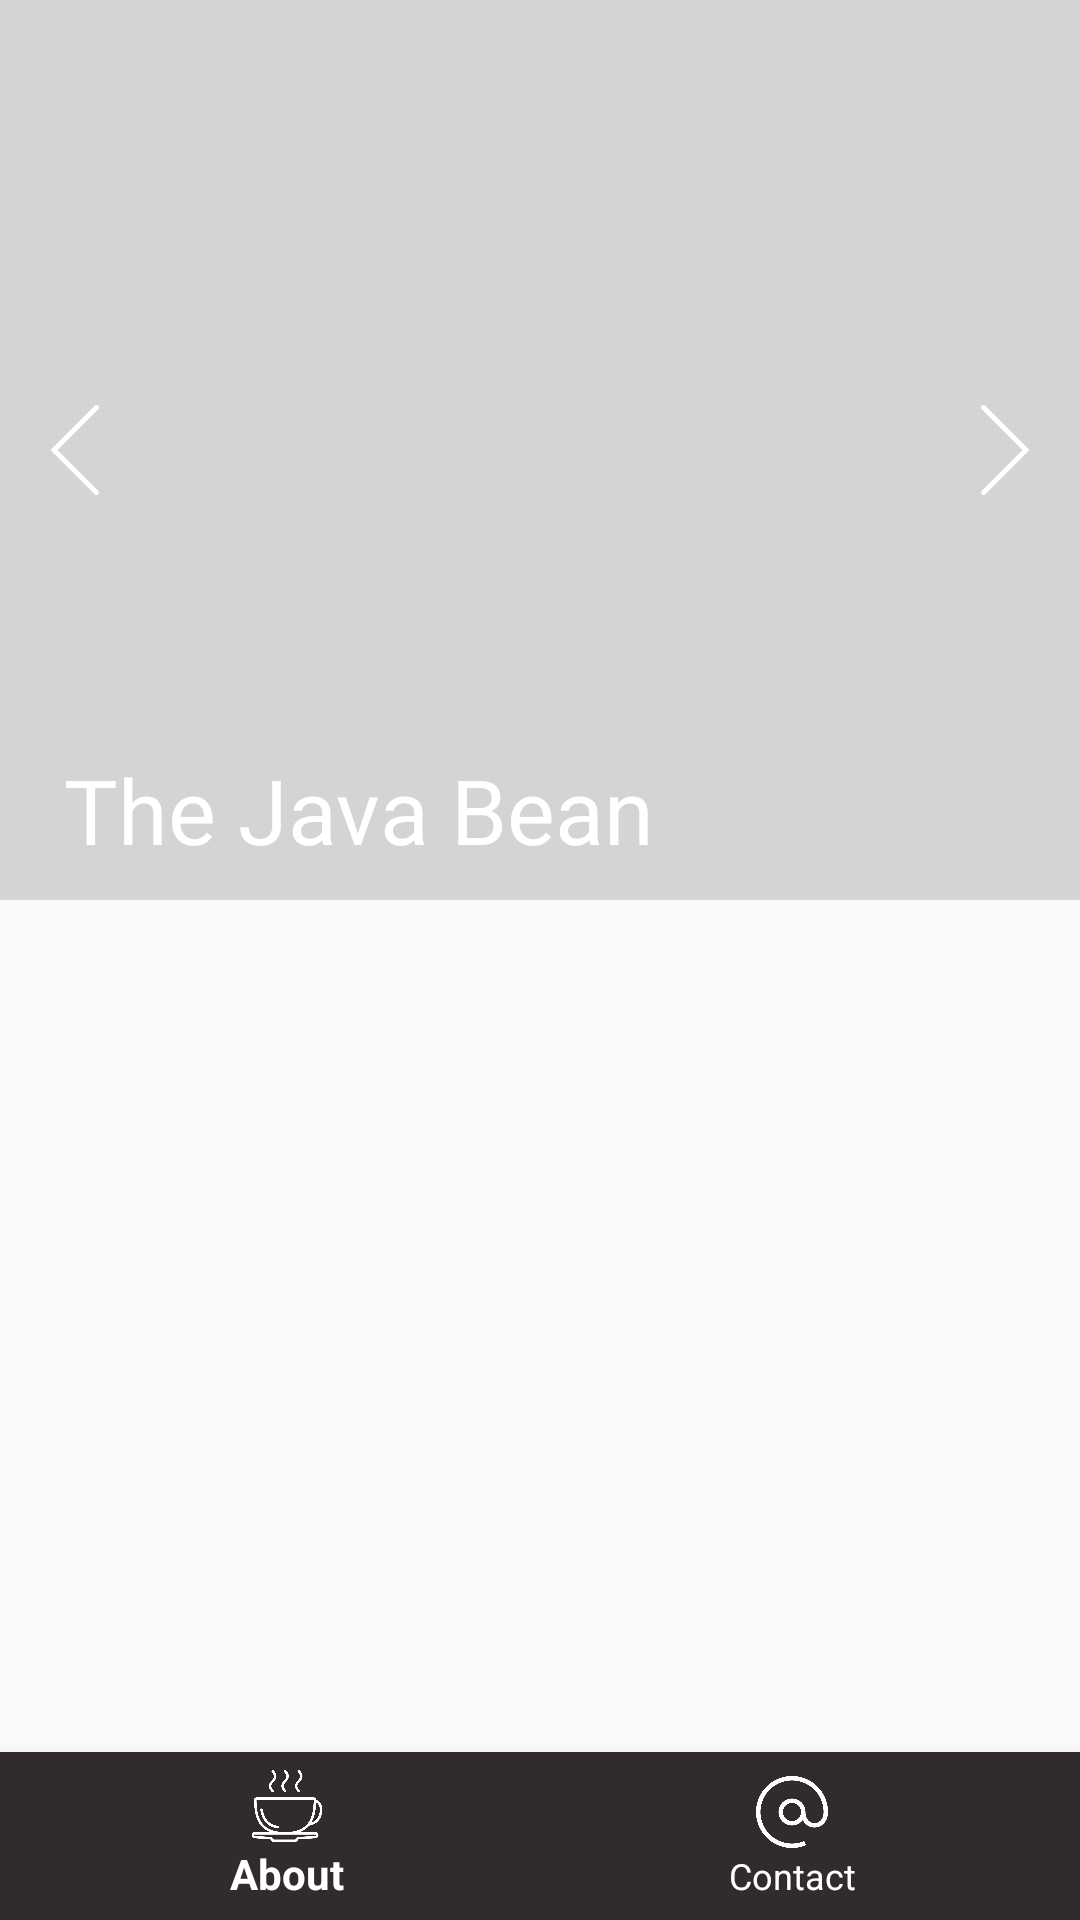

Screen size 1080 × 1920. Icon name, then its box in pixels as (x1, y1, x2, y2):
next: (981, 405, 1029, 495)
